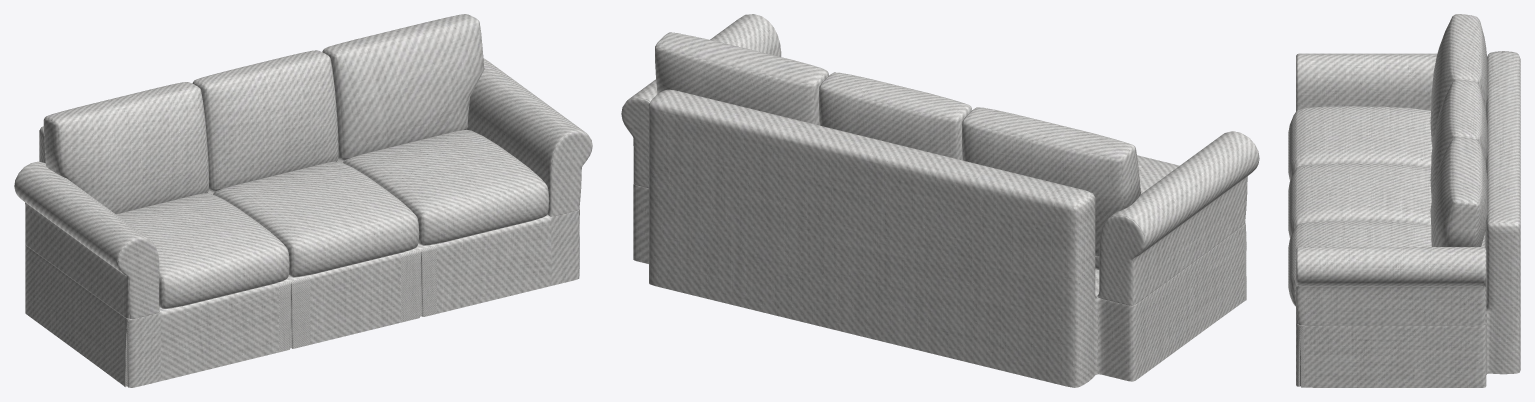
The model's file is sofa-test.obj.
The picture shows the model from 3 angles, left to right: view 1: azimuth 30°, elevation 25°; view 2: azimuth 150°, elevation 25°; view 3: azimuth 270°, elevation 25°; orthographic projection. The views are drawn at different scales.
Visible parts, largest first — view 1: polySurface48; view 2: polySurface48; view 3: polySurface48.
Boxes of the visible parts, x1=… form: polySurface48: x1=14, y1=14, x2=592, y2=387; polySurface48: x1=621, y1=14, x2=1259, y2=387; polySurface48: x1=1288, y1=14, x2=1520, y2=387.
Bounding box in the file's own units: 10.94 × 4.38 × 5.09.
1 material, 1 textured.
